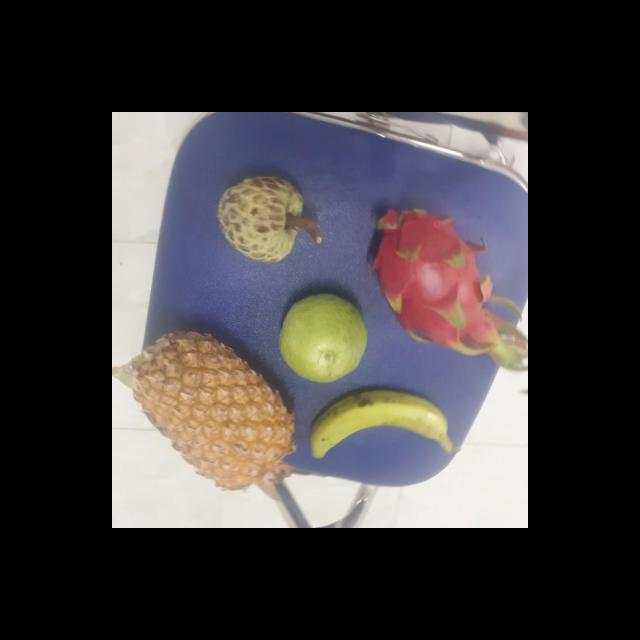Sakya fruit: (212, 175, 312, 262)
banana: (302, 385, 450, 479)
guava: (276, 292, 368, 382)
pineapple: (128, 328, 291, 486)
pitaya: (366, 205, 489, 348)
